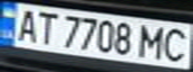0: (93, 17, 118, 54)
7: (75, 15, 100, 52), (57, 12, 81, 48)
8: (112, 19, 139, 56)
A: (9, 6, 42, 43)
C: (157, 25, 193, 63)
M: (136, 22, 172, 61)
T: (30, 9, 60, 45)
